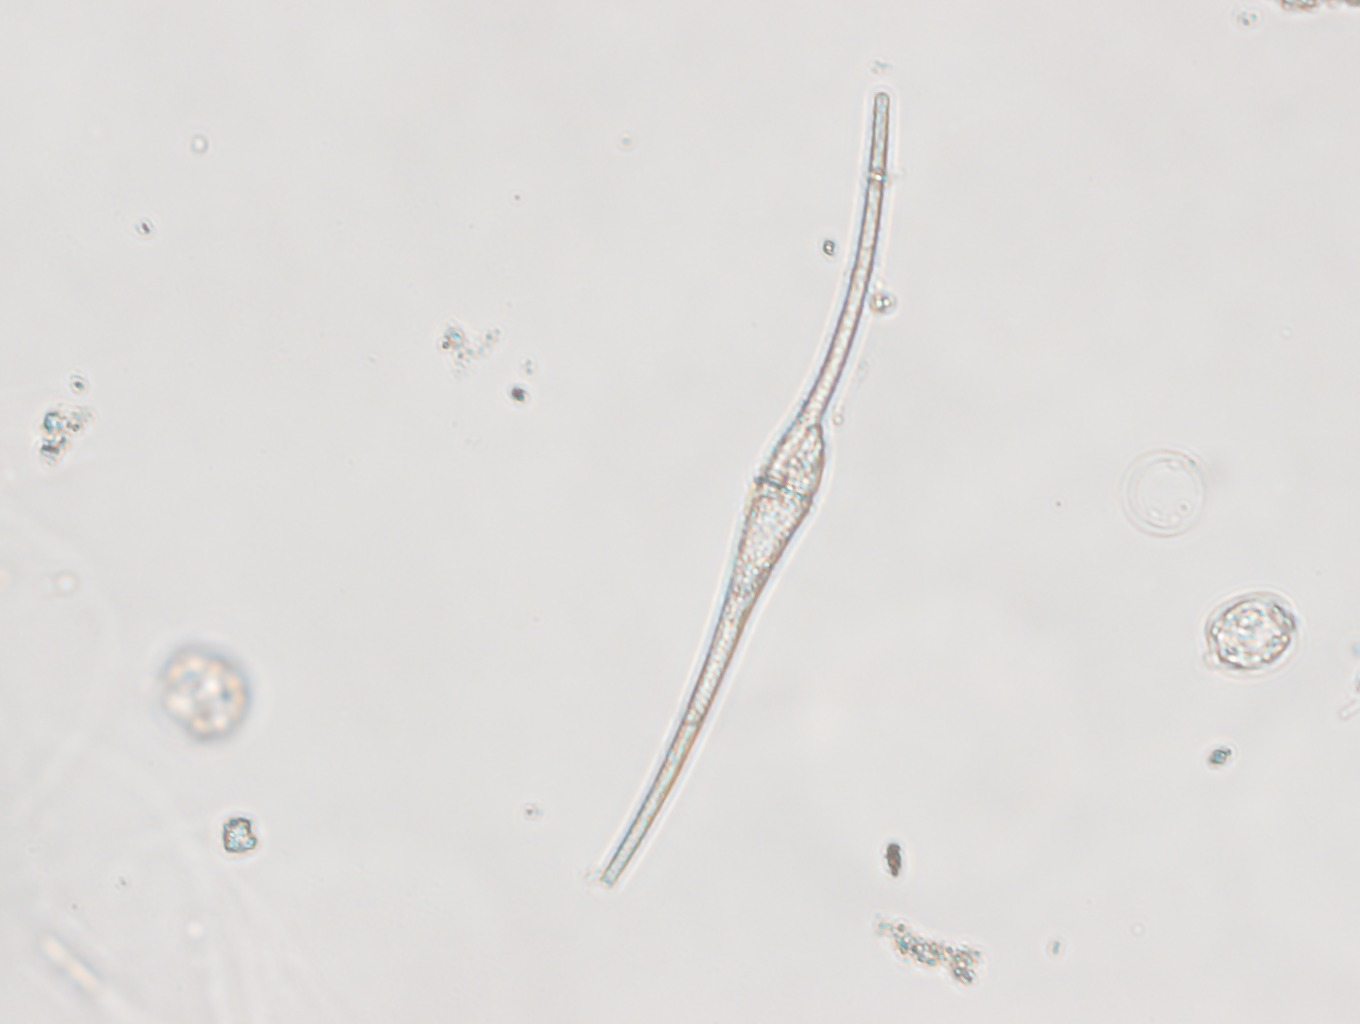ceratium fusus: (599, 84, 893, 887)
